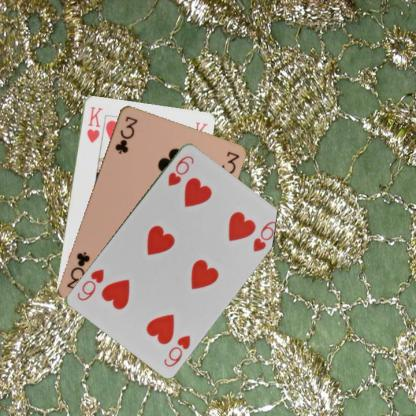3c: (112, 113, 139, 155)
6h: (160, 332, 192, 368), (166, 153, 196, 187)
Kh: (84, 103, 103, 144)
